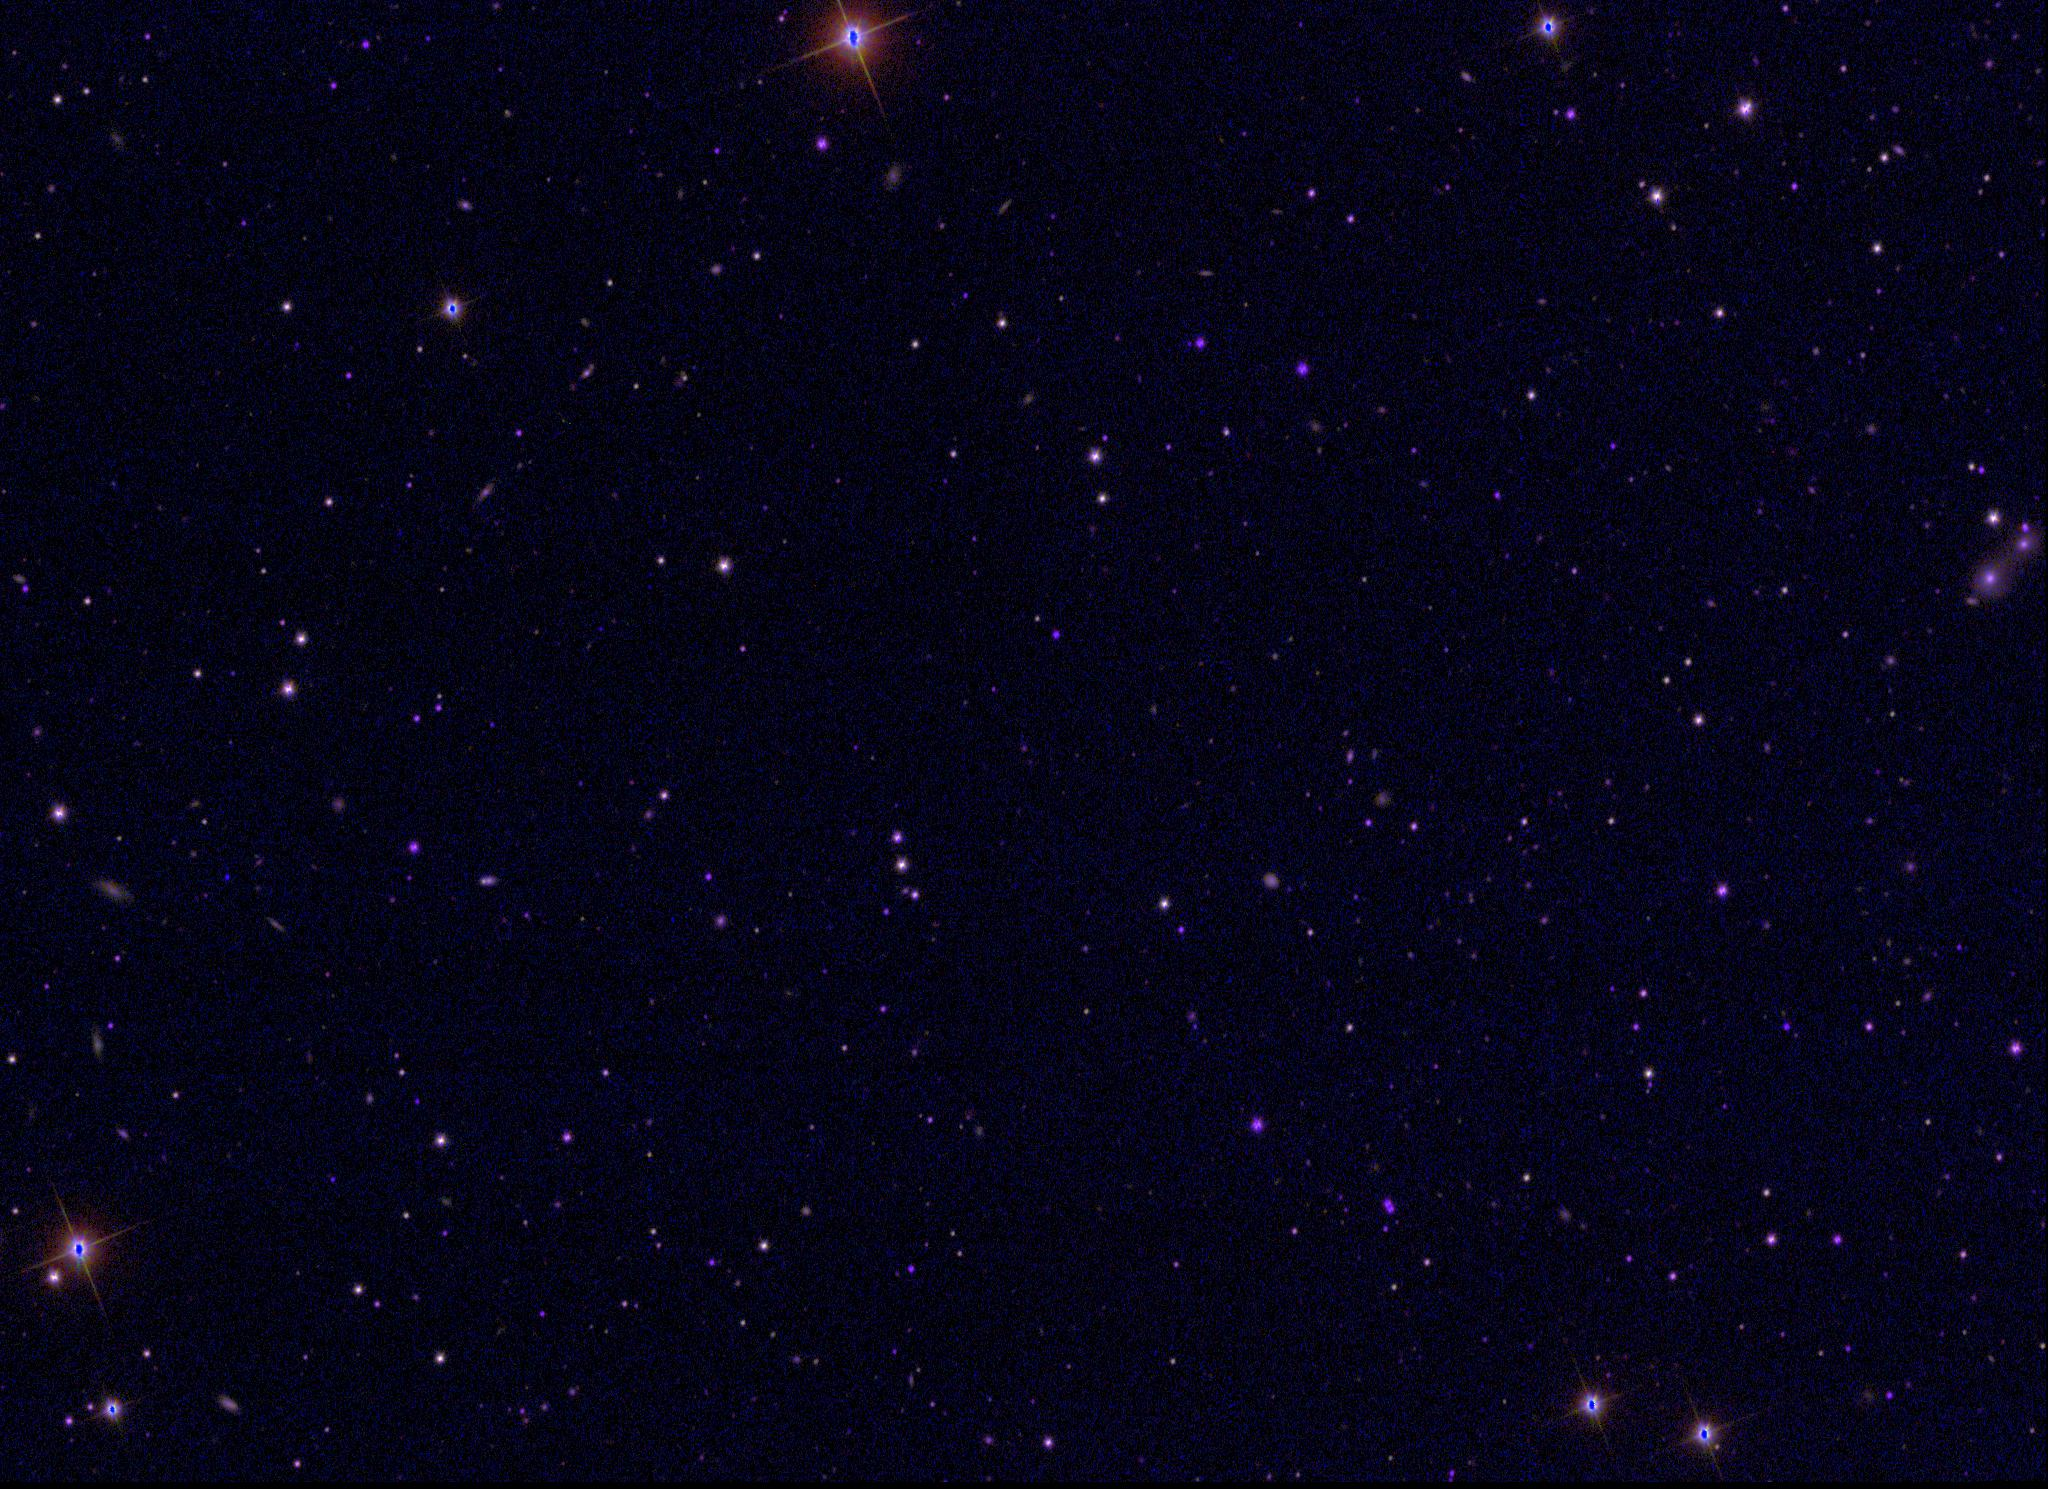L: (219, 870, 234, 884)
